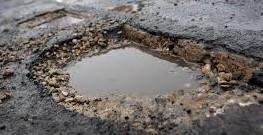pothole: (27, 22, 263, 135), (11, 5, 88, 36)
